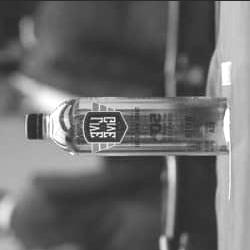bottle: (21, 90, 238, 160)
